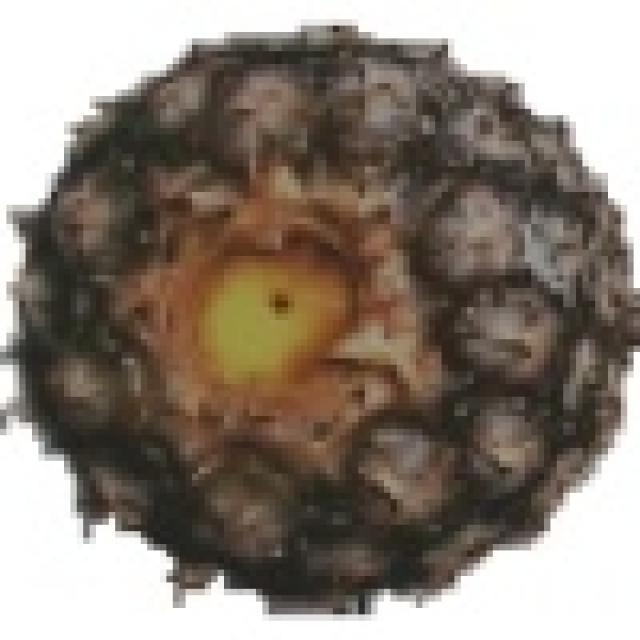pineapple: (32, 19, 634, 595)
